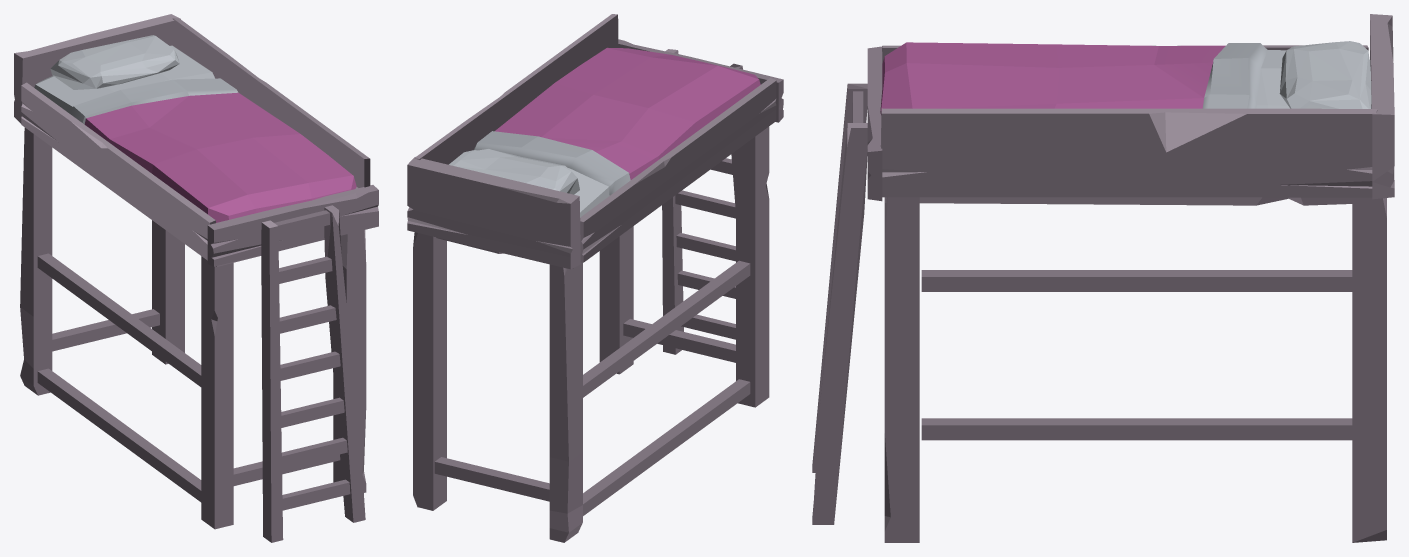
The model's file is Bed_High_Pink.fbx.
The picture shows the model from 3 angles, left to right: view 1: azimuth 30°, elevation 25°; view 2: azimuth 150°, elevation 25°; view 3: azimuth 270°, elevation 25°; orthographic projection. The views are drawn at different scales.
Visible parts, largest first — view 1: Bed_High_Pink; view 2: Bed_High_Pink; view 3: Bed_High_Pink.
Boxes of the visible parts, box(x1,y1,x2,y2) form: Bed_High_Pink: box(14, 14, 378, 542); Bed_High_Pink: box(407, 14, 783, 542); Bed_High_Pink: box(812, 14, 1394, 542).
Bounding box in the file's own units: 1.1 × 2.11 × 2.58.
1 material, 1 textured.
